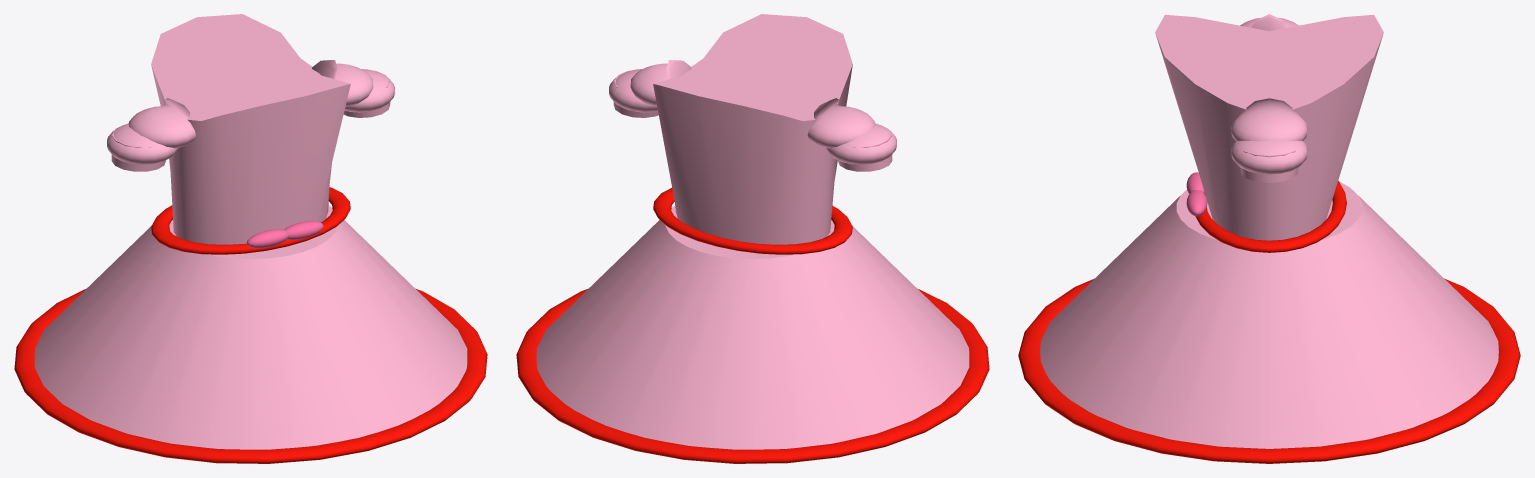
File: suit_cute_0.glb
The picture shows the model from 3 angles, left to right: view 1: azimuth 30°, elevation 25°; view 2: azimuth 150°, elevation 25°; view 3: azimuth 270°, elevation 25°; orthographic projection. The views are drawn at different scales.
Size of the model in its own units: 1.09 by 0.7862 by 1.09.
